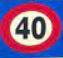Gioi han toc do: (1, 3, 61, 53)
